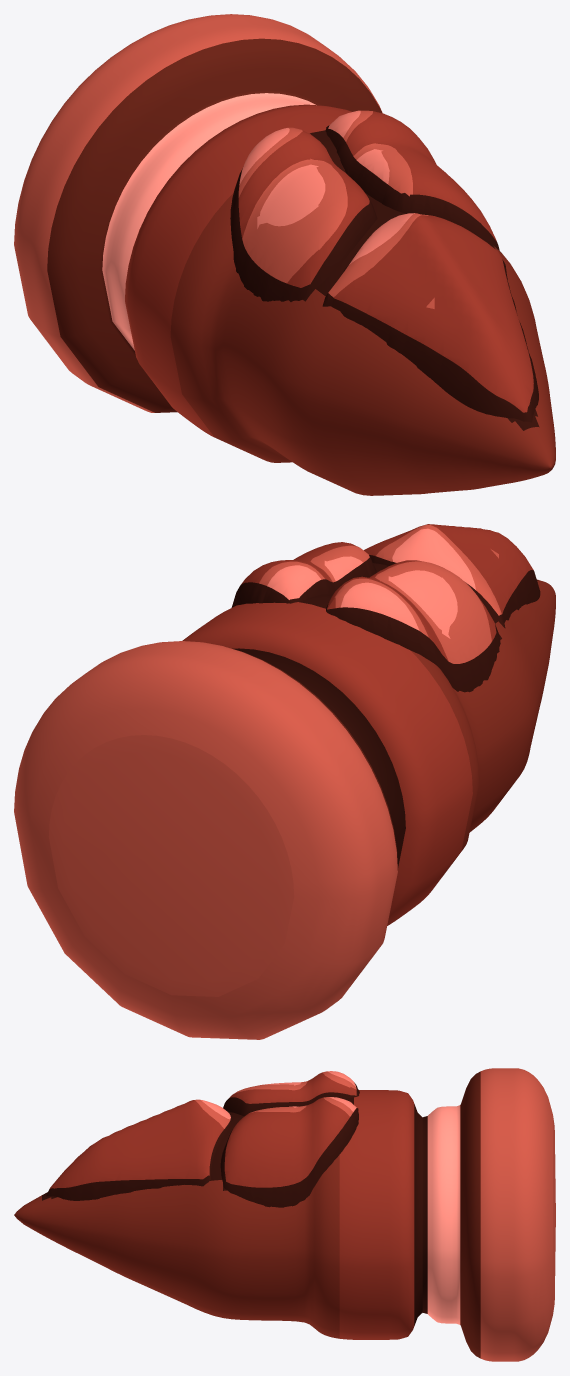
File: flesh_stinger.glb
The picture shows the model from 3 angles, top to bottom: view 1: azimuth 30°, elevation 25°; view 2: azimuth 150°, elevation 25°; view 3: azimuth 270°, elevation 25°; orthographic projection. The views are drawn at different scales.
Parts seen in each view (by area): view 1: body, lobe_low, lobe_l, lobe_r; view 2: body, lobe_l, lobe_low, lobe_r; view 3: body, lobe_low, lobe_r, lobe_l.
Part boxes in pixels (x1,y1,x2,y2): body: (14,14,555,495); lobe_low: (322,213,538,422); lobe_l: (230,127,377,301); lobe_r: (325,110,499,250); body: (14,563,555,1039); lobe_l: (326,560,500,692); lobe_low: (364,524,540,628); lobe_r: (231,542,376,607); body: (14,1068,555,1361); lobe_low: (46,1099,232,1200); lobe_r: (220,1097,358,1207); lobe_l: (223,1071,359,1116).
Bounding box in the file's own units: 14.6 × 14.6 × 26.95.
